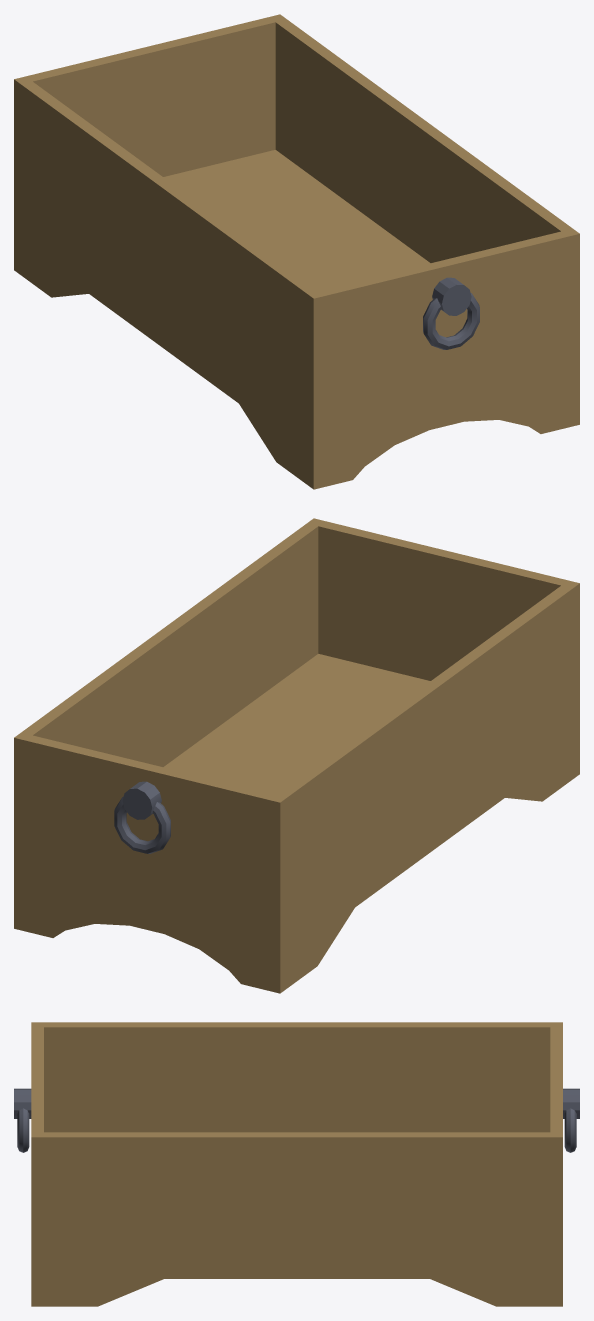
Rendered from cassa_baule.fbx.
3 views of the same model, one above another, from view 1: azimuth 30°, elevation 25°; view 2: azimuth 150°, elevation 25°; view 3: azimuth 270°, elevation 25° (orthographic). The views are drawn at different scales.
Visible parts, largest first — view 1: polySurface1991; view 2: polySurface1991; view 3: polySurface1991.
Boxes of the visible parts, x1,y1,x2,y2 form: polySurface1991: (14,14,579,489); polySurface1991: (14,518,579,993); polySurface1991: (14,1022,579,1306).
Size of the model in its own units: 86.39 by 59.22 by 179.
